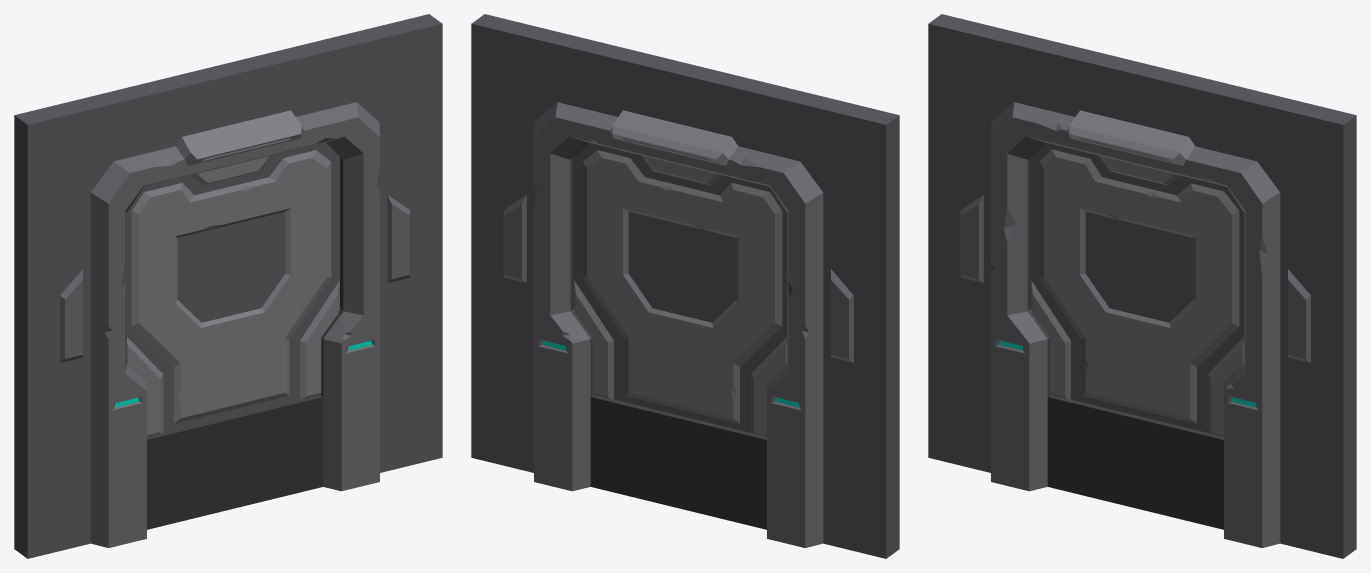
File: SM_Bld_Wall_Doorframe_02.glb
3 renders of one model, left to right at view 1: azimuth 30°, elevation 25°; view 2: azimuth 150°, elevation 25°; view 3: azimuth 330°, elevation 25°, orthographic.
Visible parts, largest first — view 1: SM_Bld_Wall_Doorframe_02, SM_Bld_Wall_Door_01; view 2: SM_Bld_Wall_Doorframe_02, SM_Bld_Wall_Door_01; view 3: SM_Bld_Wall_Doorframe_02, SM_Bld_Wall_Door_01.
Boxes of the visible parts, x1,y1,x2,y2 form: SM_Bld_Wall_Doorframe_02: (14, 14, 442, 558); SM_Bld_Wall_Door_01: (127, 142, 339, 437); SM_Bld_Wall_Doorframe_02: (471, 14, 899, 558); SM_Bld_Wall_Door_01: (574, 142, 786, 437); SM_Bld_Wall_Doorframe_02: (928, 14, 1356, 558); SM_Bld_Wall_Door_01: (1031, 142, 1243, 437).
Size of the model in its own units: 5 by 5 by 0.8711.
Materials: 1 (1 with a texture image).
